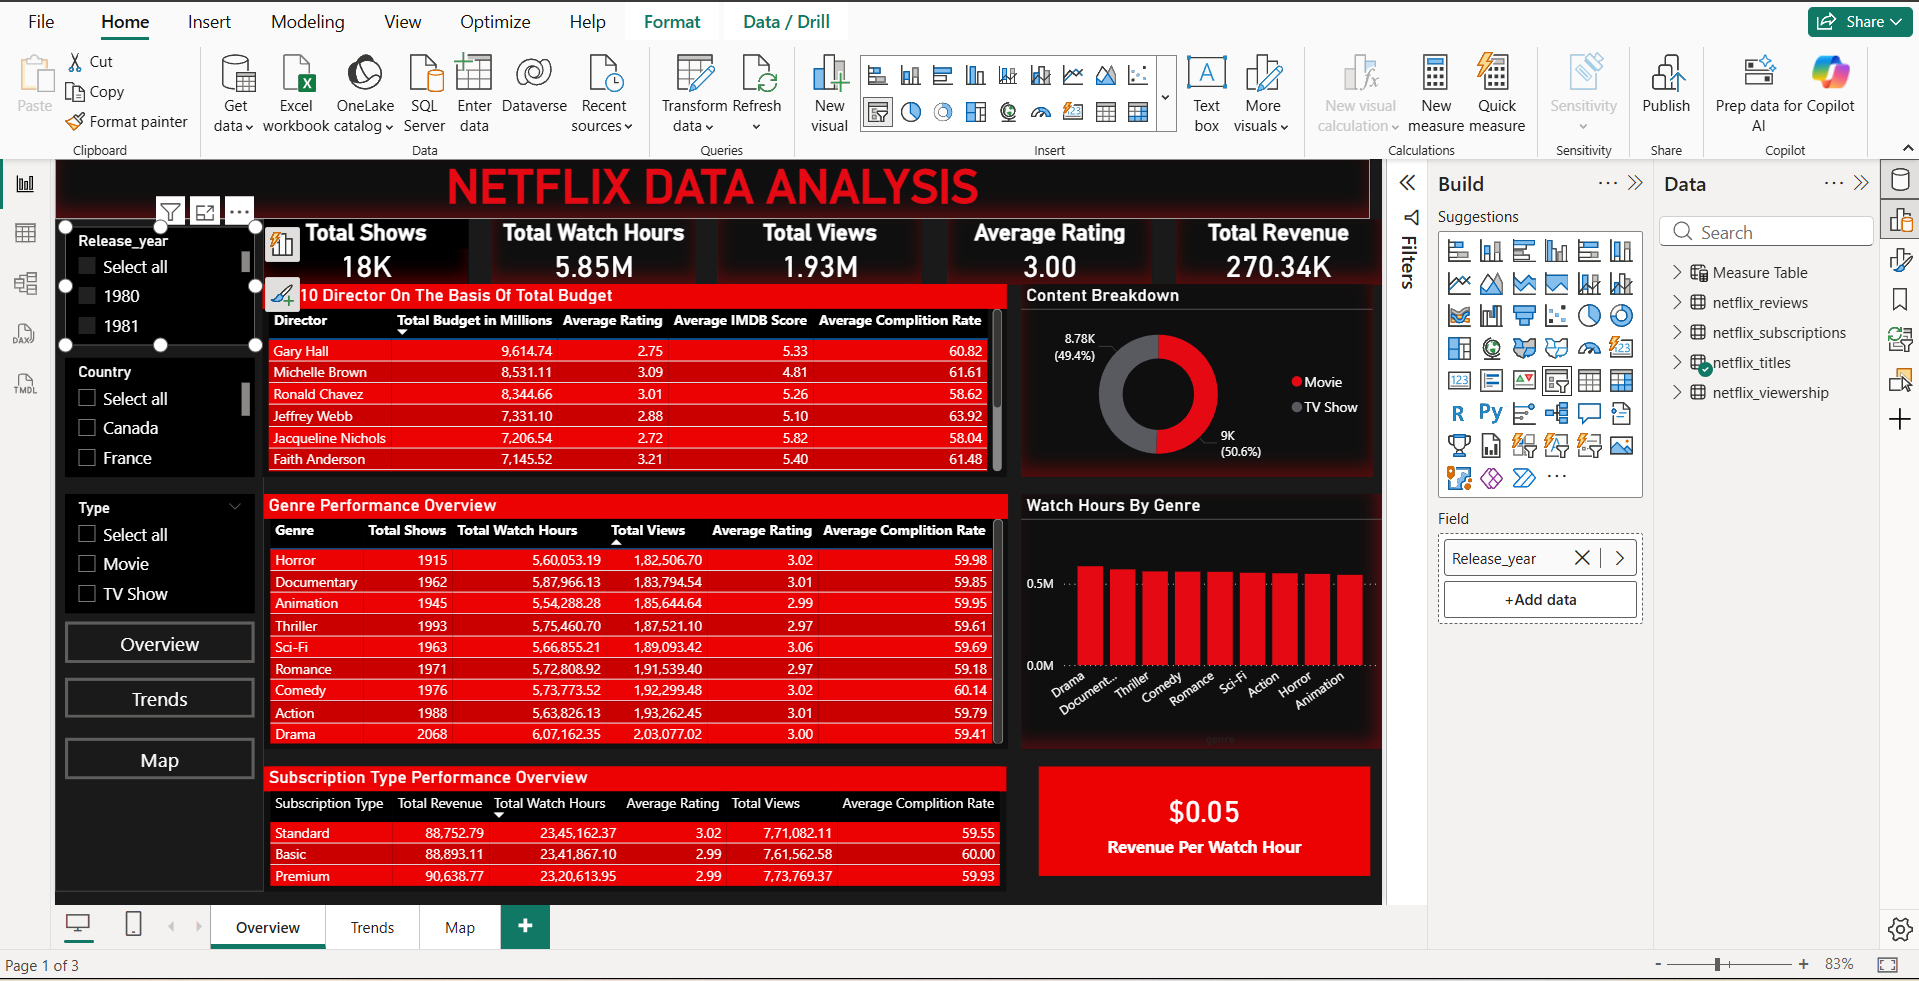

This screenshot's page, from the dashboard's own definition file:
{"tool":"powerbi","page":{"name":"Overview","canvas":[1280,720],"ordinal":0},"visuals":[{"type":"textbox","title":"NETFLIX DATA ANALYSIS","box":[0,0,1269.6,57.7],"z":0},{"type":"actionButton","box":[10.1,445.8,183,40.2],"z":0,"group":"g1"},{"type":"card","title":"Total Shows","fields":{"Values":["Measure Table.Total Shows"]},"box":[201.5,57.9,197.9,63.9],"z":1000},{"type":"actionButton","box":[10.1,557.8,183,40.2],"z":1000,"group":"g1"},{"type":"card","title":"Total Watch Hours","fields":{"Values":["Measure Table.Total Watch Hours"]},"box":[421,57.9,197.9,63.9],"z":2000},{"type":"actionButton","box":[10.1,500.4,183,38.8],"z":2000,"group":"g1"},{"type":"card","title":"Total Views","fields":{"Values":["Measure Table.Total Views"]},"box":[639.4,57.9,197.9,63.9],"z":3000},{"type":"card","title":"Average Rating","fields":{"Values":["Measure Table.Average Rating"]},"box":[861.4,57.9,197.9,63.9],"z":4000},{"type":"card","title":"Total Revenue","fields":{"Values":["Measure Table.Total Revenue"]},"box":[1082.2,57.9,197.9,63.9],"z":5000},{"type":"columnChart","title":"Watch Hours By Genre","fields":{"Category":["netflix_titles.genre"],"Y":["Sum(netflix_viewership.watch_hours_millions)"]},"box":[932,323.2,347.7,246.7],"z":6000},{"type":"donutChart","title":"Content Breakdown","fields":{"Category":["netflix_titles.type"],"Y":["CountNonNull(netflix_titles.show_id)"]},"box":[932,121.2,339,186.1],"z":7000},{"type":"tableEx","title":"Genre Performance Overview","fields":{"Values":["netflix_titles.genre","Measure Table.Total Shows","Measure Table.Total Watch Hours","Measure Table.Total Views","Measure Table.Average Rating","Measure Table.Average Complition Rate"]},"box":[202,323.6,718.2,246],"z":8000},{"type":"tableEx","title":"Subscription Type Performance Overview","fields":{"Values":["netflix_subscriptions.subscription_type","Measure Table.Total Revenue","Measure Table.Total Watch Hours","Measure Table.Average Rating","Measure Table.Total Views","Measure Table.Average Complition Rate"]},"box":[202,586,716.8,120.9],"z":9000},{"type":"card","fields":{"Values":["Measure Table.Revenue Per Watch Hour"]},"box":[949.3,585.8,320.3,105.3],"z":10000},{"type":"shape","box":[0,57.7,202,649.2],"z":11000},{"type":"tableEx","title":"Top 10 Director On The Basis Of Total Budget","fields":{"Values":["netflix_titles.director","Measure Table.Total Budget","Measure Table.Average Rating","Measure Table.Average IMDB Score","Measure Table.Average Complition Rate"]},"box":[200.5,121.2,718.5,186.1],"z":12000},{"type":"slicer","fields":{"Values":["netflix_titles.release_year"]},"box":[9.7,65.1,183.4,114.6],"z":12001},{"type":"slicer","fields":{"Values":["netflix_titles.country"]},"box":[10.1,191.9,183.2,115.4],"z":12002},{"type":"slicer","fields":{"Values":["netflix_titles.type"]},"box":[10.1,323.2,183.2,115.4],"z":12003},{"type":"group","id":"g1","title":"Navigation Buttons","box":[10.1,445.8,183.2,151.5],"z":12004}]}

Visuals, with their boxes on the page's 1280x720 design canvas (x1, y1, x2, y2). These are canvas units, not pixel positions in the 1919x981 screenshot, which may show the page scaled, cropped or inside an application window:
"NETFLIX DATA ANALYSIS" textbox: 0:0:1270:58
actionButton: 10:446:193:486
"Total Shows" card: 202:58:399:122
actionButton: 10:558:193:598
"Total Watch Hours" card: 421:58:619:122
actionButton: 10:500:193:539
"Total Views" card: 639:58:837:122
"Average Rating" card: 861:58:1059:122
"Total Revenue" card: 1082:58:1280:122
"Watch Hours By Genre" columnChart: 932:323:1280:570
"Content Breakdown" donutChart: 932:121:1271:307
"Genre Performance Overview" tableEx: 202:324:920:570
"Subscription Type Performance Overview" tableEx: 202:586:919:707
card - Measure Table.Revenue Per Watch Hour: 949:586:1270:691
shape: 0:58:202:707
"Top 10 Director On The Basis Of Total Budget" tableEx: 200:121:919:307
slicer - netflix_titles.release_year: 10:65:193:180
slicer - netflix_titles.country: 10:192:193:307
slicer - netflix_titles.type: 10:323:193:439
"Navigation Buttons" group: 10:446:193:597
